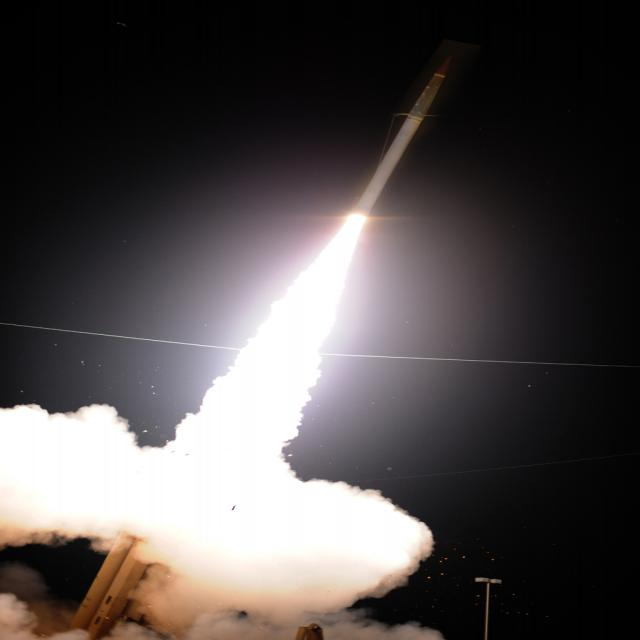rocket: (298, 49, 471, 309)
